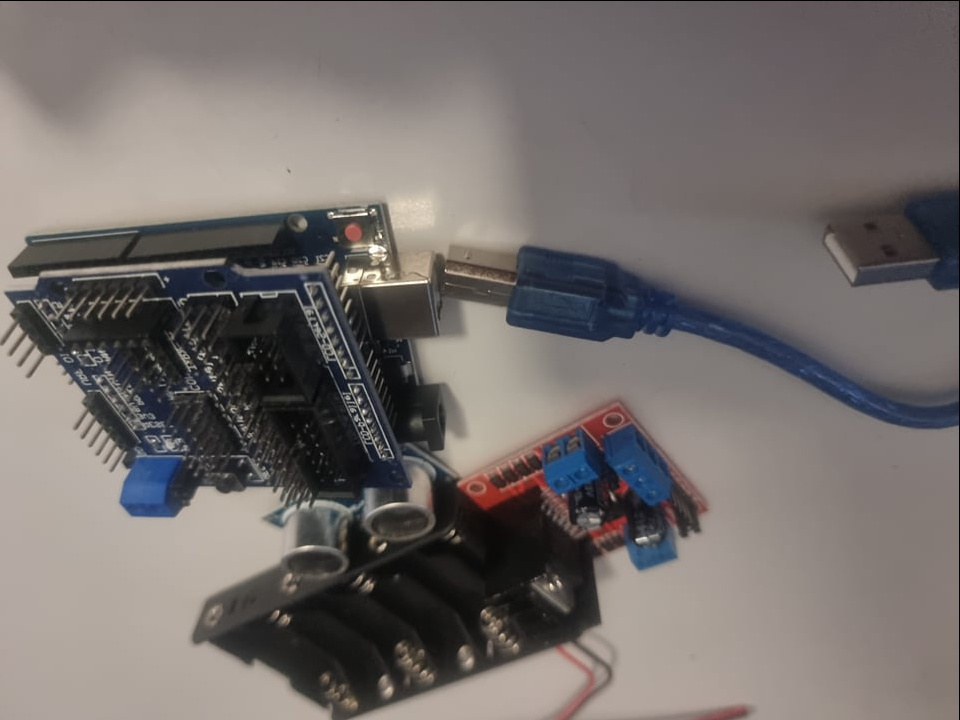5V EXPANSION: (6, 264, 393, 518)
BATTERY BOX: (188, 514, 604, 716)
MOTOR: (467, 399, 716, 632)
SENSOR: (259, 448, 453, 581)
UNO R3: (343, 184, 450, 443)
